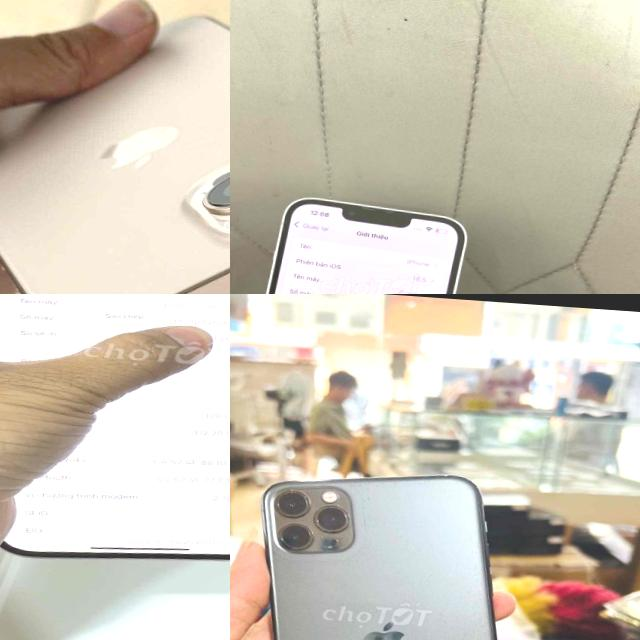scratch: (341, 473, 477, 521), (274, 481, 311, 509)
